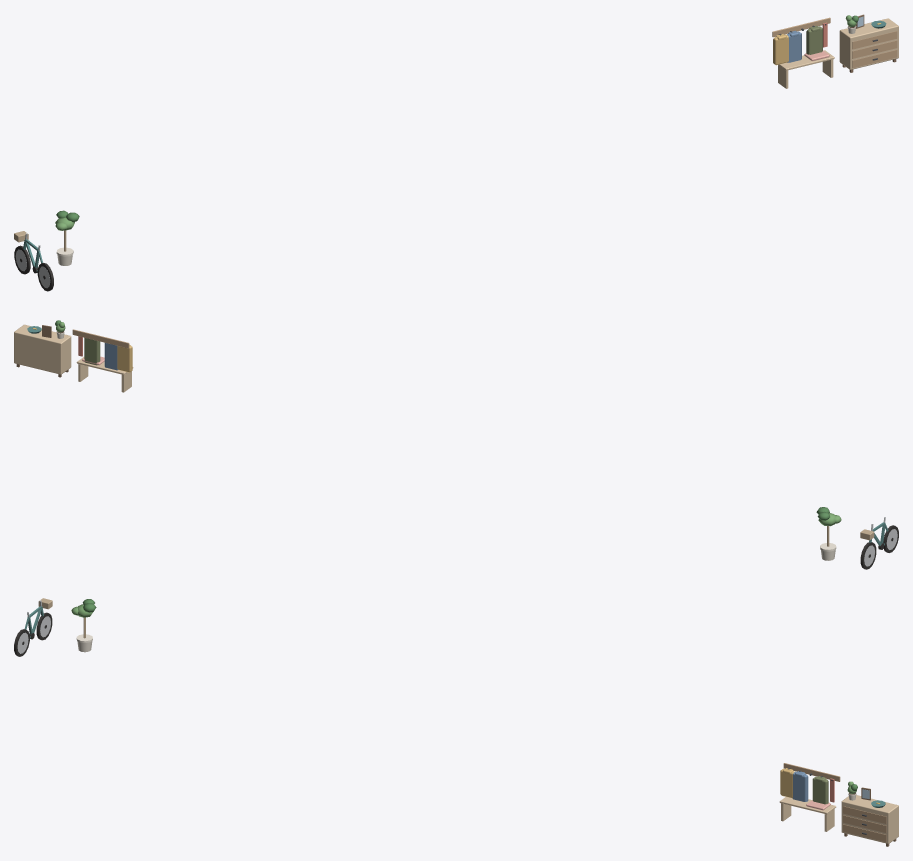
The model's file is einrichtung_flur_buehne.glb.
The picture shows the model from 3 angles, top to bottom: view 1: azimuth 30°, elevation 25°; view 2: azimuth 150°, elevation 25°; view 3: azimuth 330°, elevation 25°; orthographic projection. The views are drawn at different scales.
Visible parts, largest first — view 1: einrichtung_flur_buehne; view 2: einrichtung_flur_buehne; view 3: einrichtung_flur_buehne.
Boxes of the visible parts, x1,y1,x2,y2 form: einrichtung_flur_buehne: (14,14,898,291); einrichtung_flur_buehne: (14,320,898,569); einrichtung_flur_buehne: (14,598,898,846).
Bounding box in the file's own units: 19.64 × 1.14 × 1.47.
